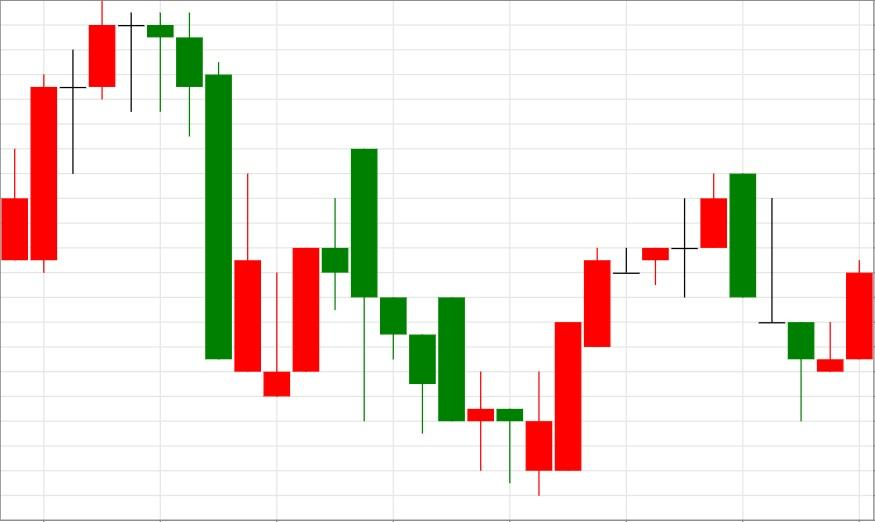bearish_engulfing_fall: (525, 173, 757, 496)
evening_star_fall: (0, 0, 174, 273)
inverse_hammer_rise: (117, 12, 291, 397)
three_black_crows_fall: (0, 0, 233, 360), (262, 149, 437, 435)
